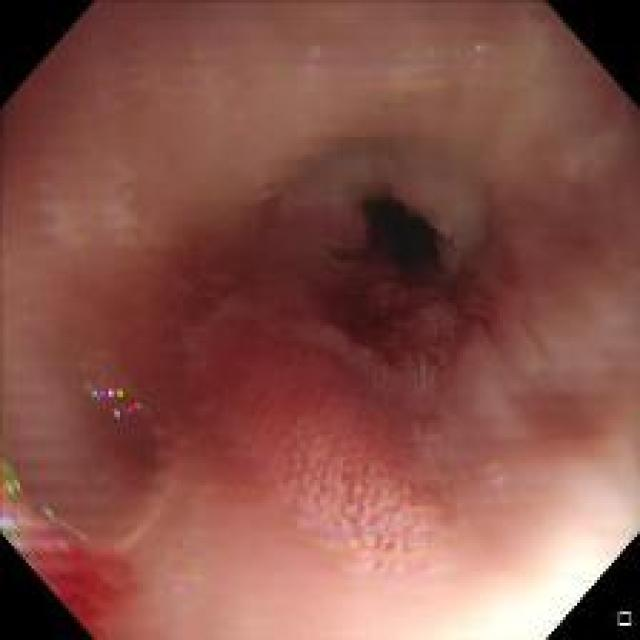blur: (101, 380, 622, 625), (31, 14, 501, 239)
color misalignment: (0, 446, 68, 549), (332, 478, 404, 552), (84, 374, 148, 424), (378, 60, 449, 96), (150, 430, 185, 492), (465, 34, 495, 59)
contrast: (356, 182, 442, 280)
saturation: (446, 469, 635, 635)
